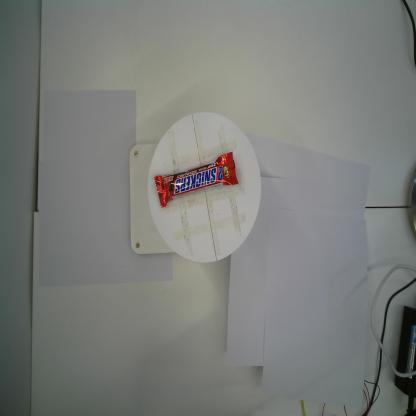Chocolate: (154, 146, 239, 208)
